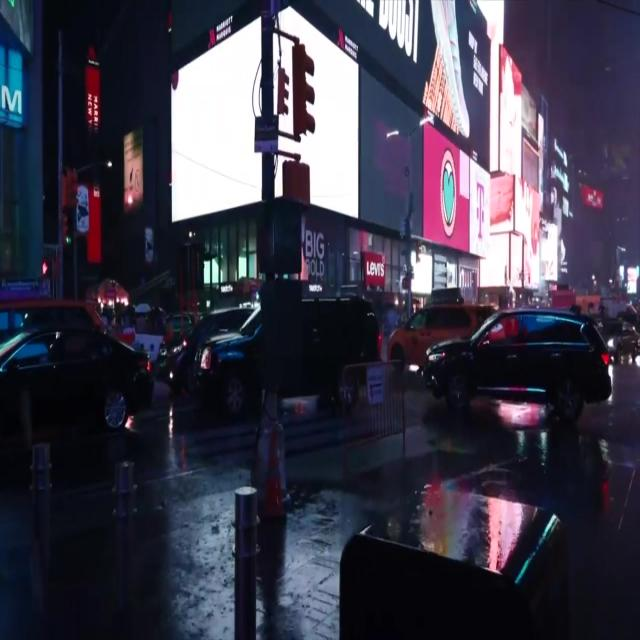Car: (424, 300, 609, 425), (193, 302, 374, 410), (11, 337, 150, 439)
